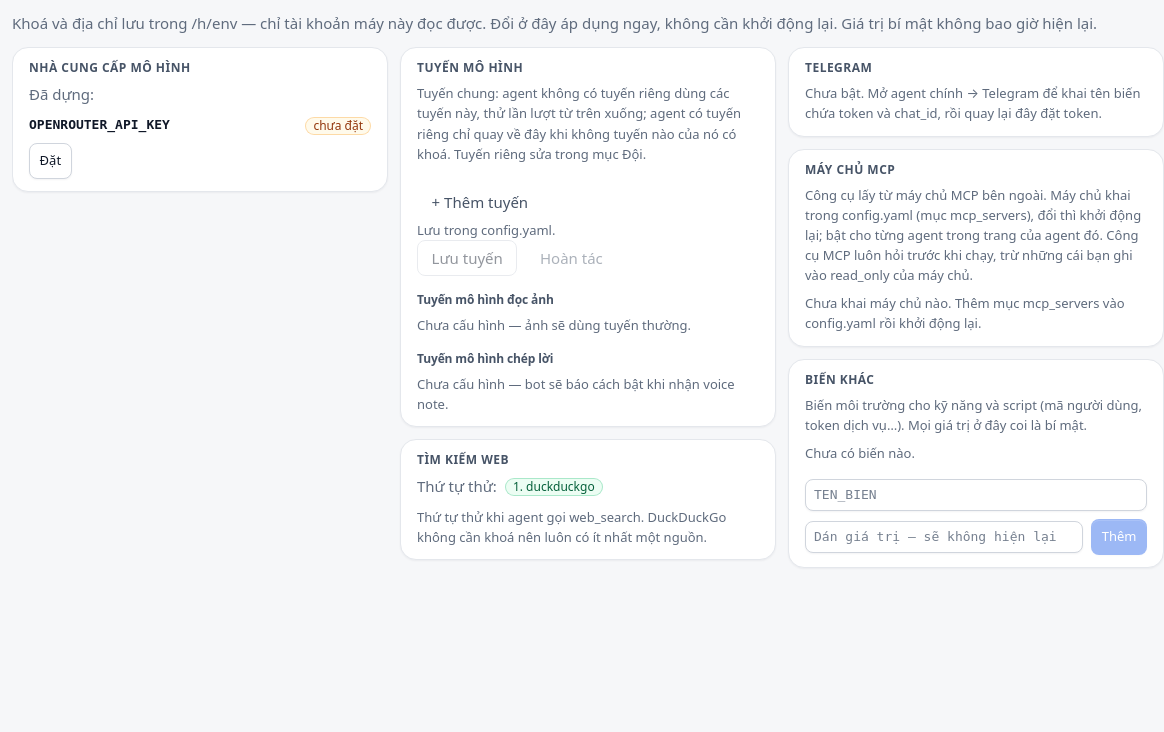
Test: ConnectionsPanel › saves a key through a password field that is empty again afterwards
The width and height of the screenshot is (1164, 732).
Click the button "Đặt".
click(50, 161)  # box [29,143,72,179]
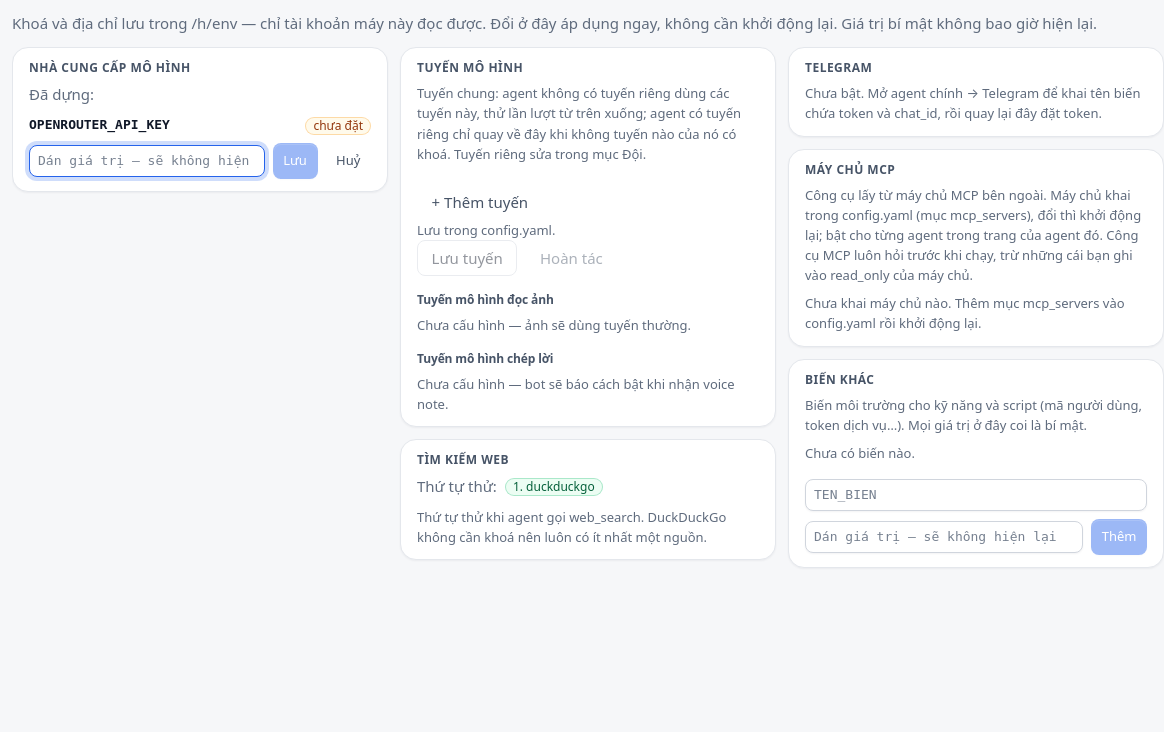
Type "sk-or-v1-abc" into the password field with placeholder "Dán giá trị — sẽ không hiện lại" below "OPENROUTER_API_KEY".
click(147, 161); type("sk-or-v1-abc")  # box [29,145,265,176]
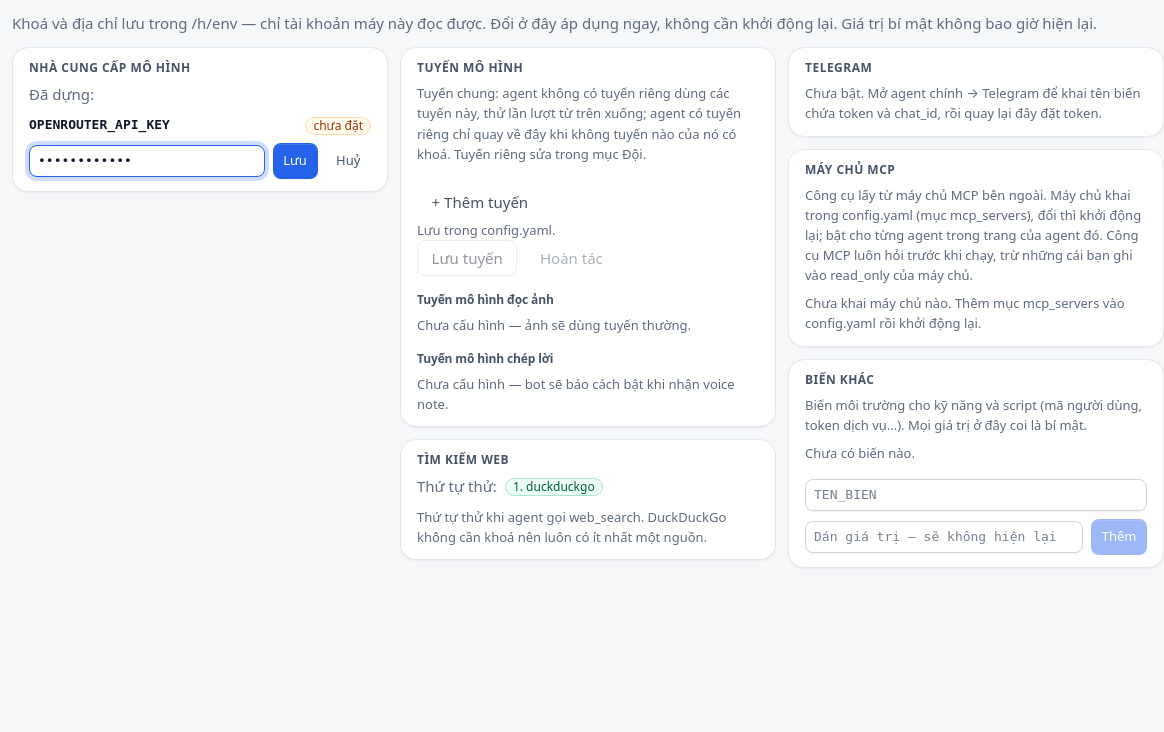
Click the button "Lưu".
click(295, 161)  # box [273,143,318,179]
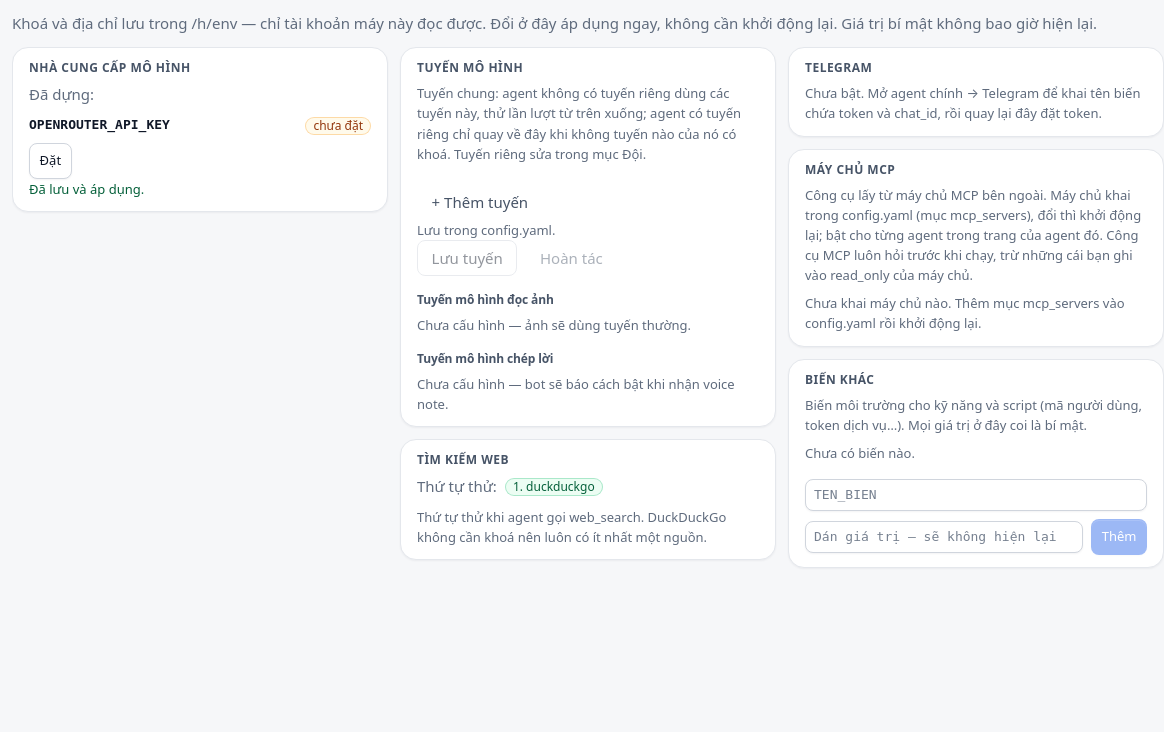
Check: the message reads "Đã lưu và áp dụng.", box [29,180,144,198]
